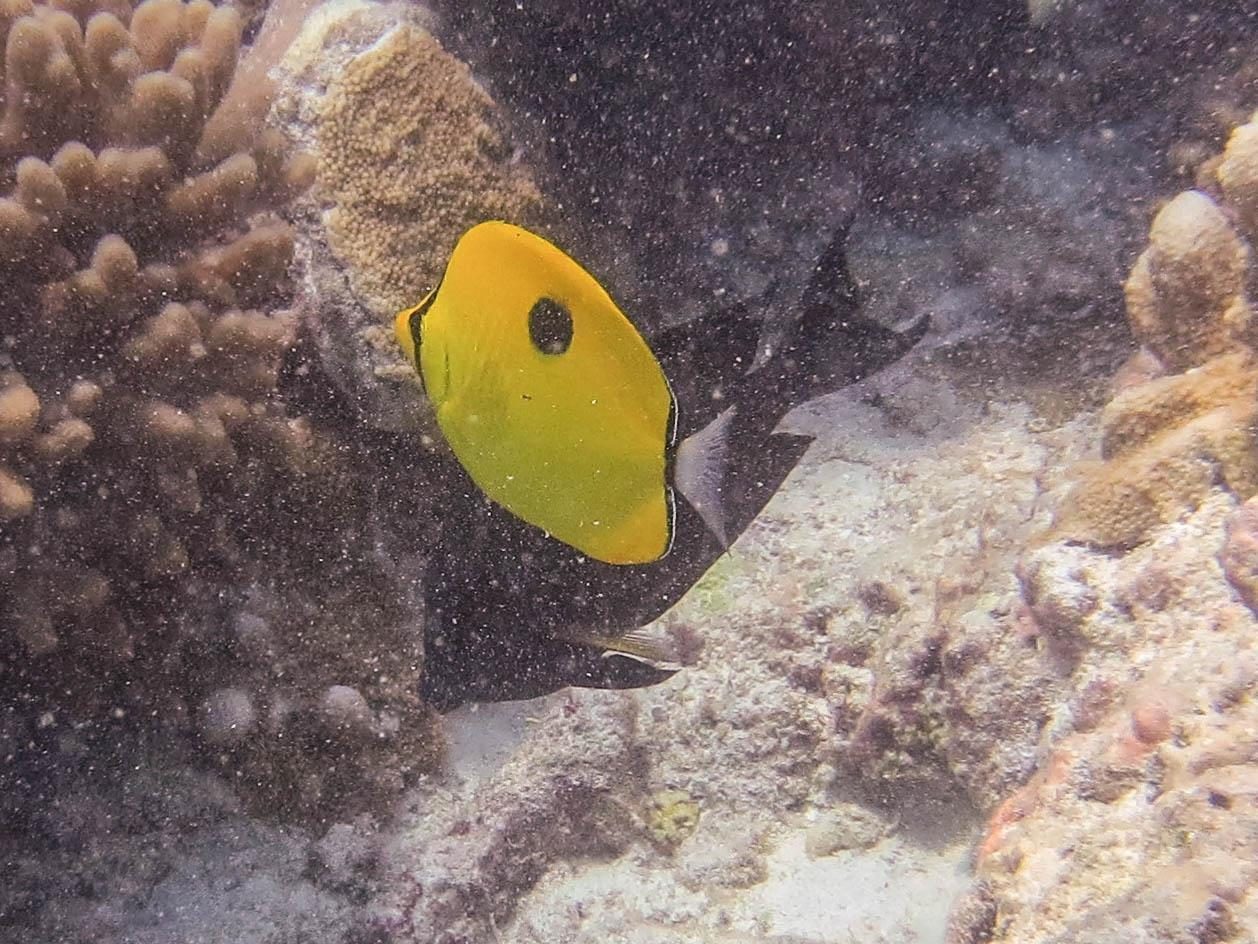Fish: (345, 161, 796, 656)
